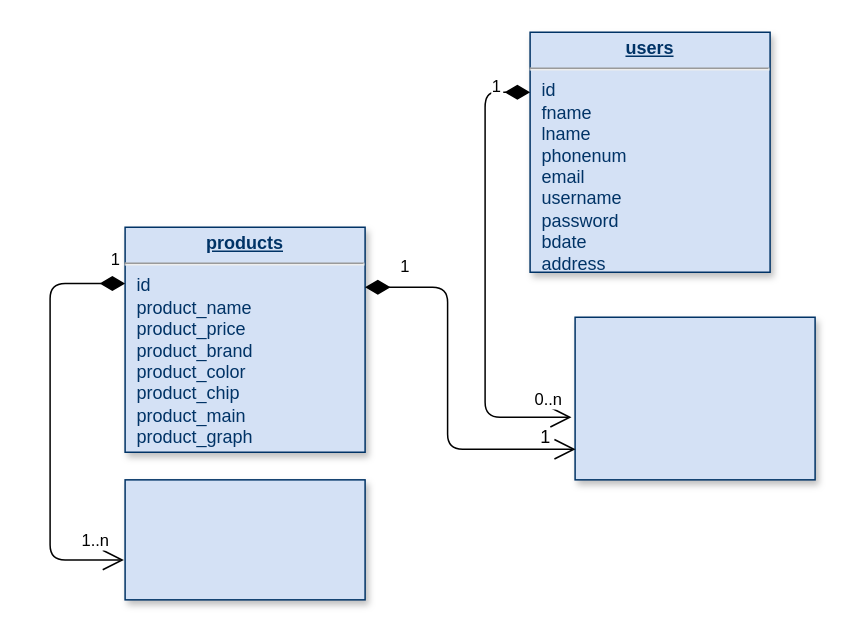
The diagram is 851 pixels wide and 638 high, and some of its shapes have lost their labels. Each missing label, with the centre of its shape:
comment id content user_id product_id time: the point at 696,400
product_images Id product_id Image_path: the point at 246,541
